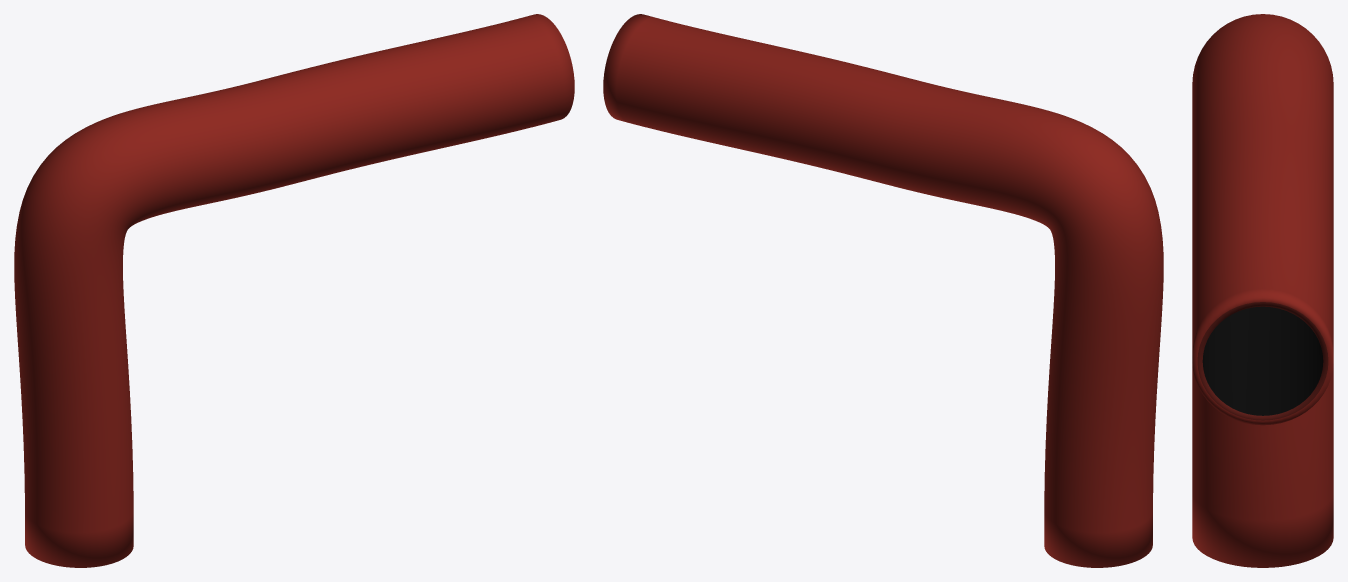
The model's file is spawn_dart.fbx.
3 renders of one model, left to right at view 1: azimuth 30°, elevation 25°; view 2: azimuth 150°, elevation 25°; view 3: azimuth 270°, elevation 25°, orthographic. The views are drawn at different scales.
Parts seen in each view (by area): view 1: NurbsPath; view 2: NurbsPath; view 3: NurbsPath.
Part boxes in pixels (box(x1,y1,x2,y2)): NurbsPath: box(14, 14, 574, 567); NurbsPath: box(603, 14, 1163, 567); NurbsPath: box(1192, 14, 1333, 567).
Size of the model in its own units: 222 by 168 by 39.67.
